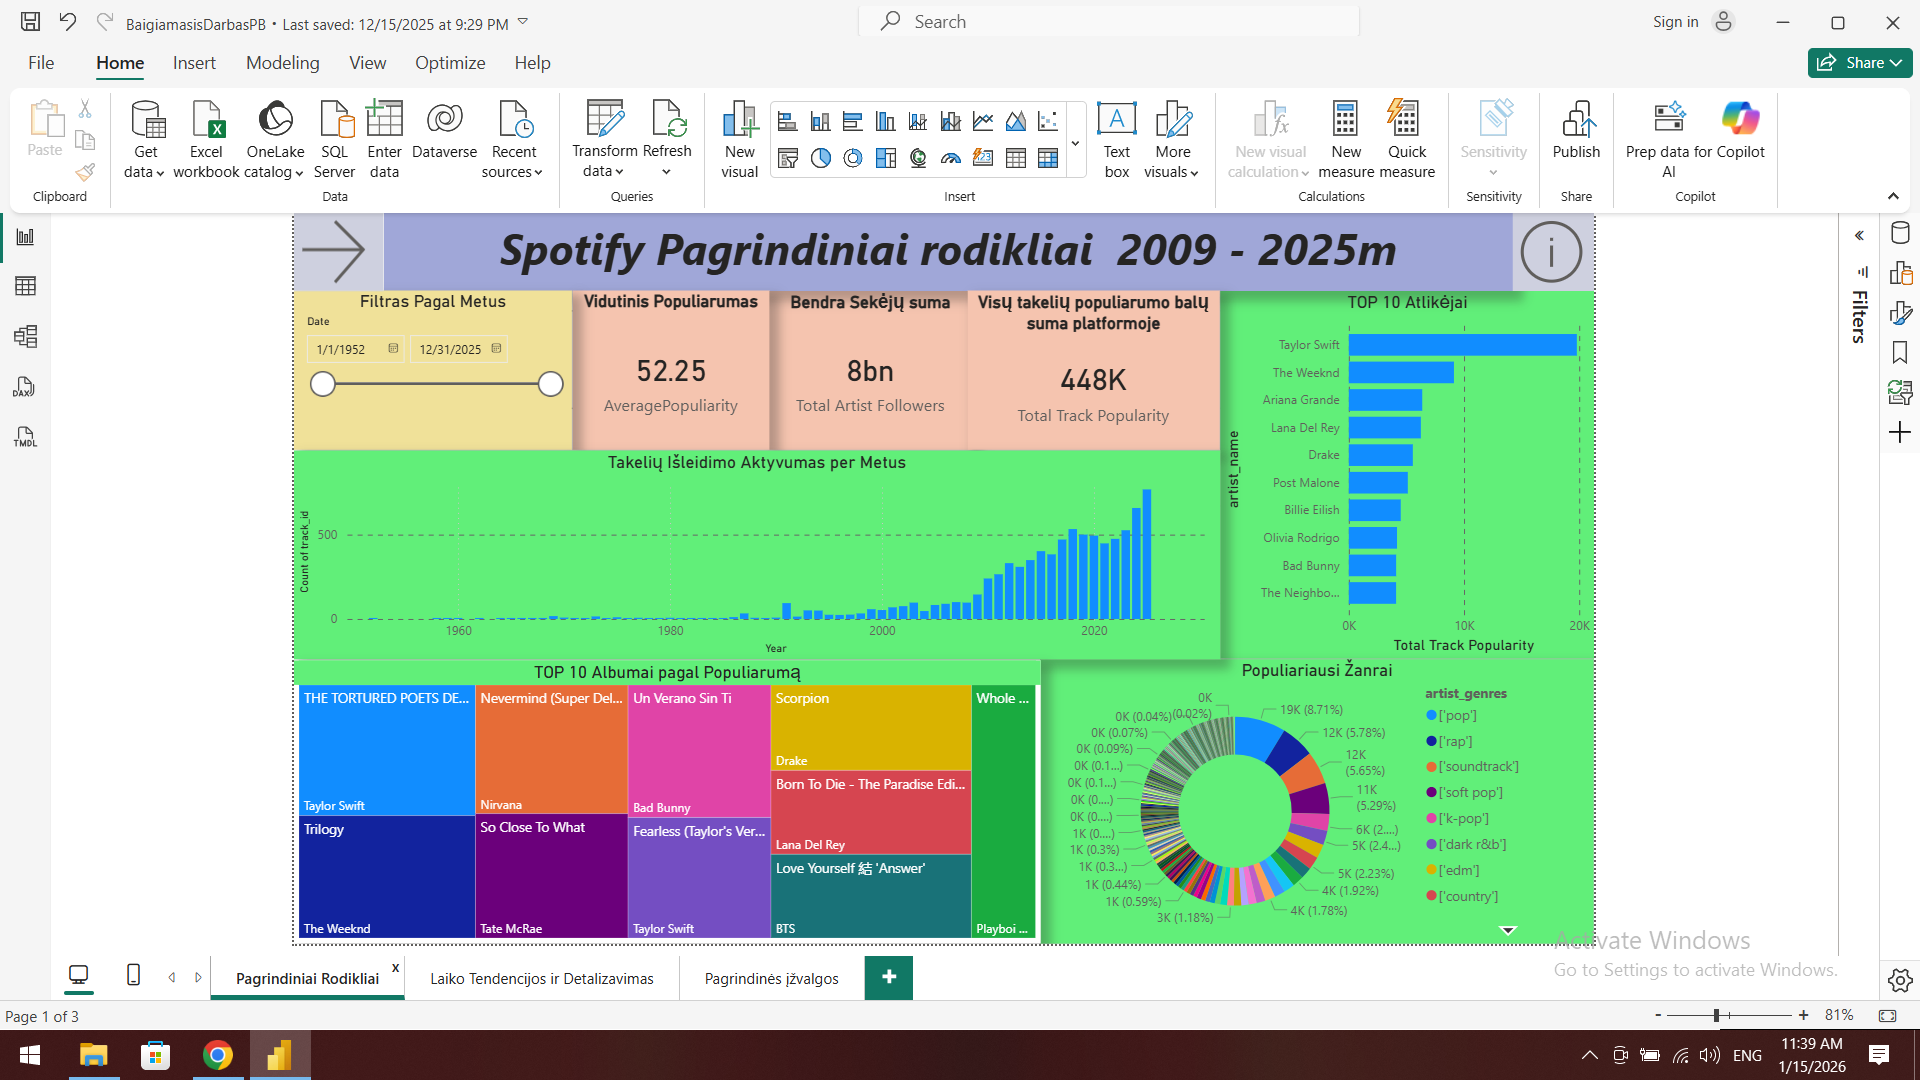

This screenshot's page, from the dashboard's own definition file:
{"tool":"powerbi","page":{"name":"Pagrindiniai Rodikliai","canvas":[1280,720],"ordinal":0},"visuals":[{"type":"clusteredBarChart","title":"TOP 10 Atlikėjai","fields":{"Category":["DimArtists.artist_name"],"Y":["FactTracks.Total Track Popularity"]},"box":[911.8,76.5,368.6,362.7],"z":0},{"type":"card","title":"Bendra Sekėjų suma","fields":{"Values":["DimArtists.Total Artist Followers"]},"box":[467.4,76.1,200,156.5],"z":1000},{"type":"textbox","box":[88.2,0,1111.8,76.5],"z":2000},{"type":"card","title":"Visų takelių populiarumo balų suma platformoje","fields":{"Values":["FactTracks.Total Track Popularity"]},"box":[663,76.1,247.8,156.5],"z":3000},{"type":"card","title":"Vidutinis Populiarumas","fields":{"Values":["FactTracks.AveragePopuliarity"]},"box":[273.9,76.1,193.5,156.5],"z":4000},{"type":"slicer","title":"Filtras Pagal Metus","fields":{"Values":["DimDate.Date"]},"box":[0,76.1,273.9,156.5],"z":5000},{"type":"donutChart","title":"Populiariausi Žanrai","fields":{"Y":["FactTracks.Total Track Popularity"],"Category":["DimArtists.artist_genres"]},"box":[735.3,439.2,545.1,280.4],"z":6000},{"type":"columnChart","title":"Takelių Išleidimo Aktyvumas per Metus","fields":{"Category":["DimDate.Date.Variation.Date Hierarchy.Year"],"Y":["CountNonNull(FactTracks.track_id)"]},"box":[0,233.3,911.8,205.9],"z":7000},{"type":"treemap","title":"TOP 10 Albumai pagal Populiarumą","fields":{"Values":["FactTracks.Total Track Popularity"],"Group":["DimAlbums.album_name"],"Details":["DimArtists.artist_name"]},"box":[0,441.2,735.3,278.4],"z":8000},{"type":"actionButton","box":[0,0,88.2,76.5],"z":9000},{"type":"actionButton","box":[1200,0,80.4,76.5],"z":10000}]}

Visuals, with their boxes on the page's 1280x720 design canvas (x1, y1, x2, y2). These are canvas units, not pixel positions in the 1920x1080 screenshot, which may show the page scaled, cropped or inside an application window:
"TOP 10 Atlikėjai" clusteredBarChart: (912,76,1280,439)
"Bendra Sekėjų suma" card: (467,76,667,233)
textbox: (88,0,1200,76)
"Visų takelių populiarumo balų suma platformoje" card: (663,76,911,233)
"Vidutinis Populiarumas" card: (274,76,467,233)
"Filtras Pagal Metus" slicer: (0,76,274,233)
"Populiariausi Žanrai" donutChart: (735,439,1280,720)
"Takelių Išleidimo Aktyvumas per Metus" columnChart: (0,233,912,439)
"TOP 10 Albumai pagal Populiarumą" treemap: (0,441,735,720)
actionButton: (0,0,88,76)
actionButton: (1200,0,1280,76)
